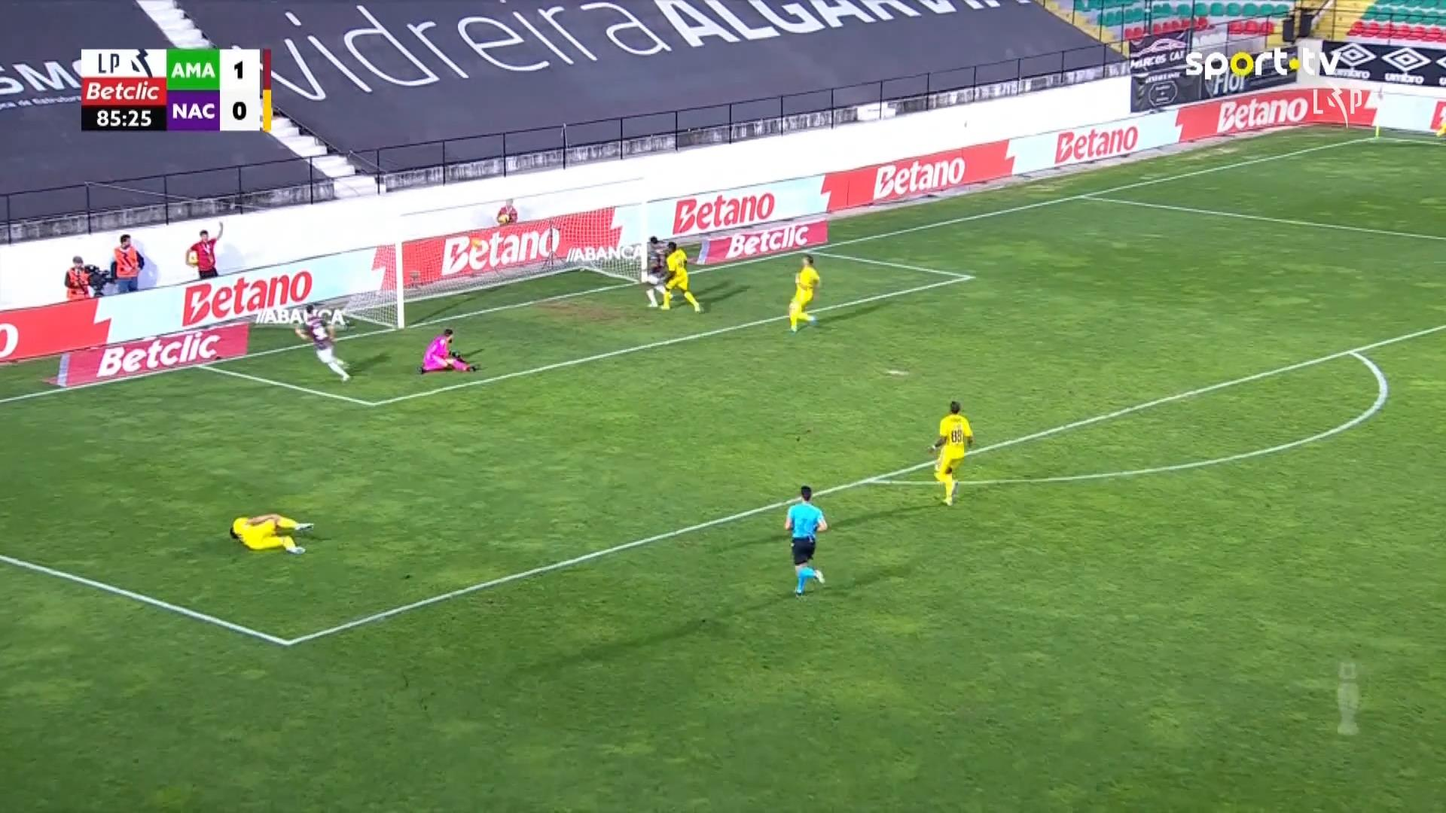ball: (472, 237, 482, 247), (498, 215, 509, 224)
goalkeeper: (419, 326, 478, 374)
player: (926, 399, 973, 506), (293, 302, 352, 382), (229, 512, 314, 555), (659, 240, 703, 312), (787, 254, 820, 333), (642, 235, 670, 309)
referee: (783, 485, 828, 597)
